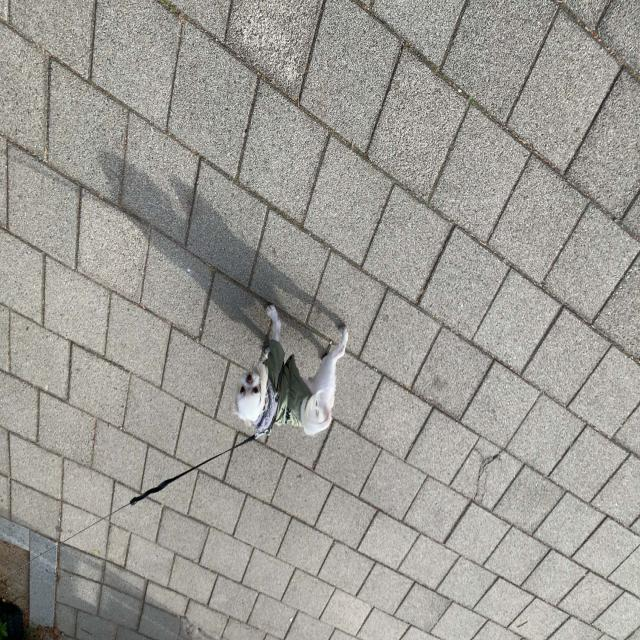Dog: (290, 200, 410, 337)
